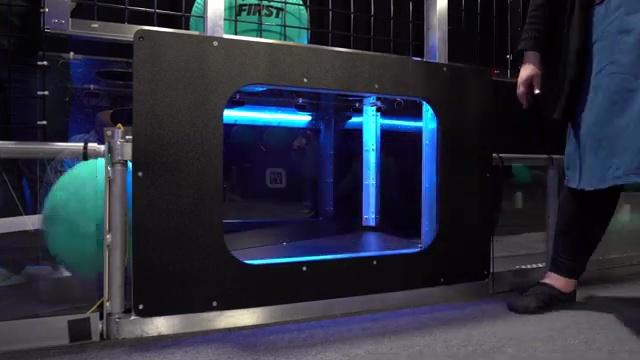ALGAE: (41, 155, 132, 278), (189, 0, 311, 44)
